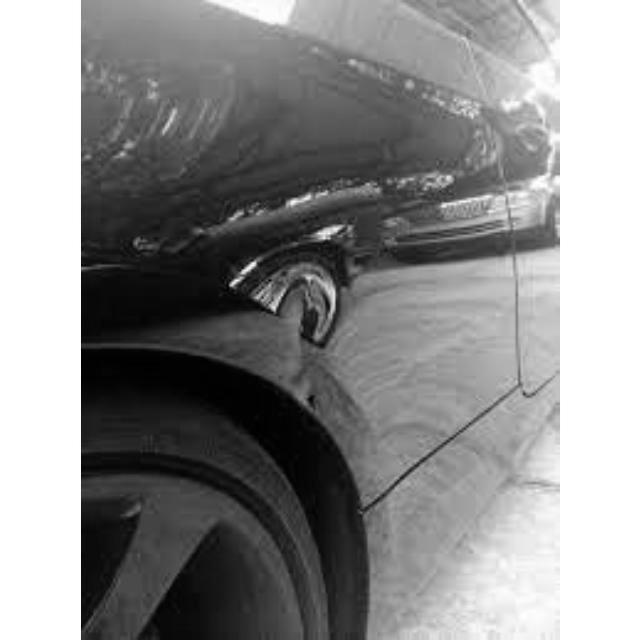quaterpanel-dent: (83, 5, 490, 523)
